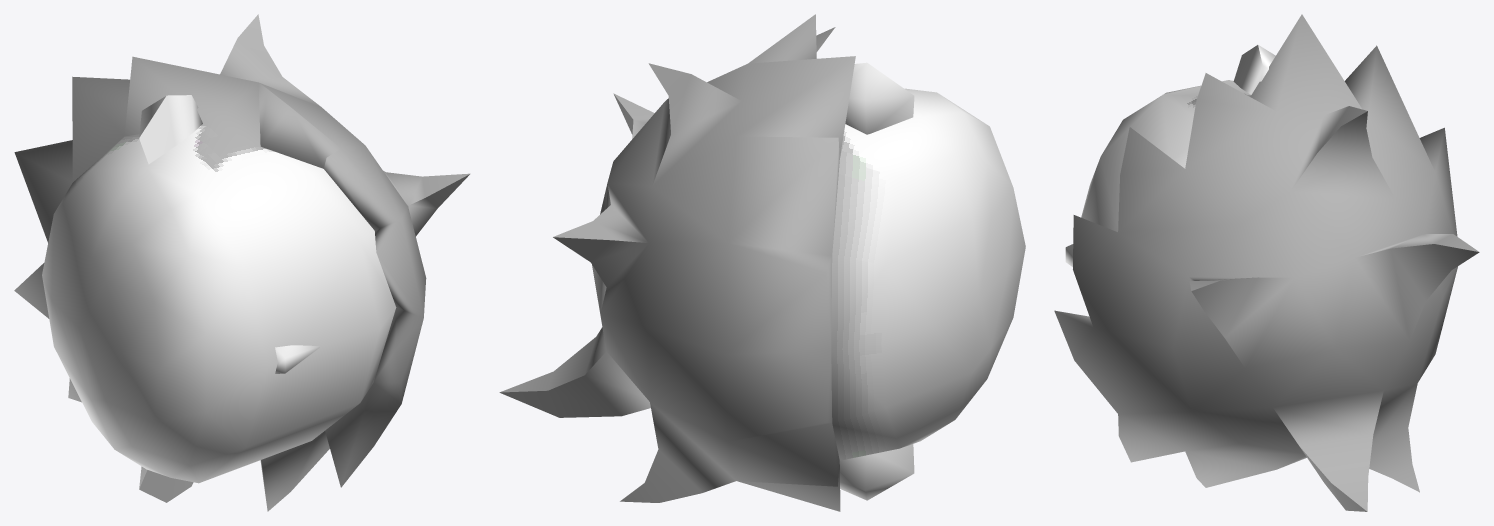
File: boy_msd_a.dae
The picture shows the model from 3 angles, left to right: view 1: azimuth 30°, elevation 25°; view 2: azimuth 150°, elevation 25°; view 3: azimuth 270°, elevation 25°; orthographic projection. The views are drawn at different scales.
Parts seen in each view (by area): view 1: boy_msd_a; view 2: boy_msd_a; view 3: boy_msd_a.
Part boxes in pixels (x1=…): boy_msd_a: x1=14, y1=14, x2=470, y2=511; boy_msd_a: x1=499, y1=14, x2=1025, y2=511; boy_msd_a: x1=1054, y1=14, x2=1479, y2=511.
Size of the model in its own units: 26.23 by 28.88 by 25.74.
Materials: 3 (1 with a texture image).
